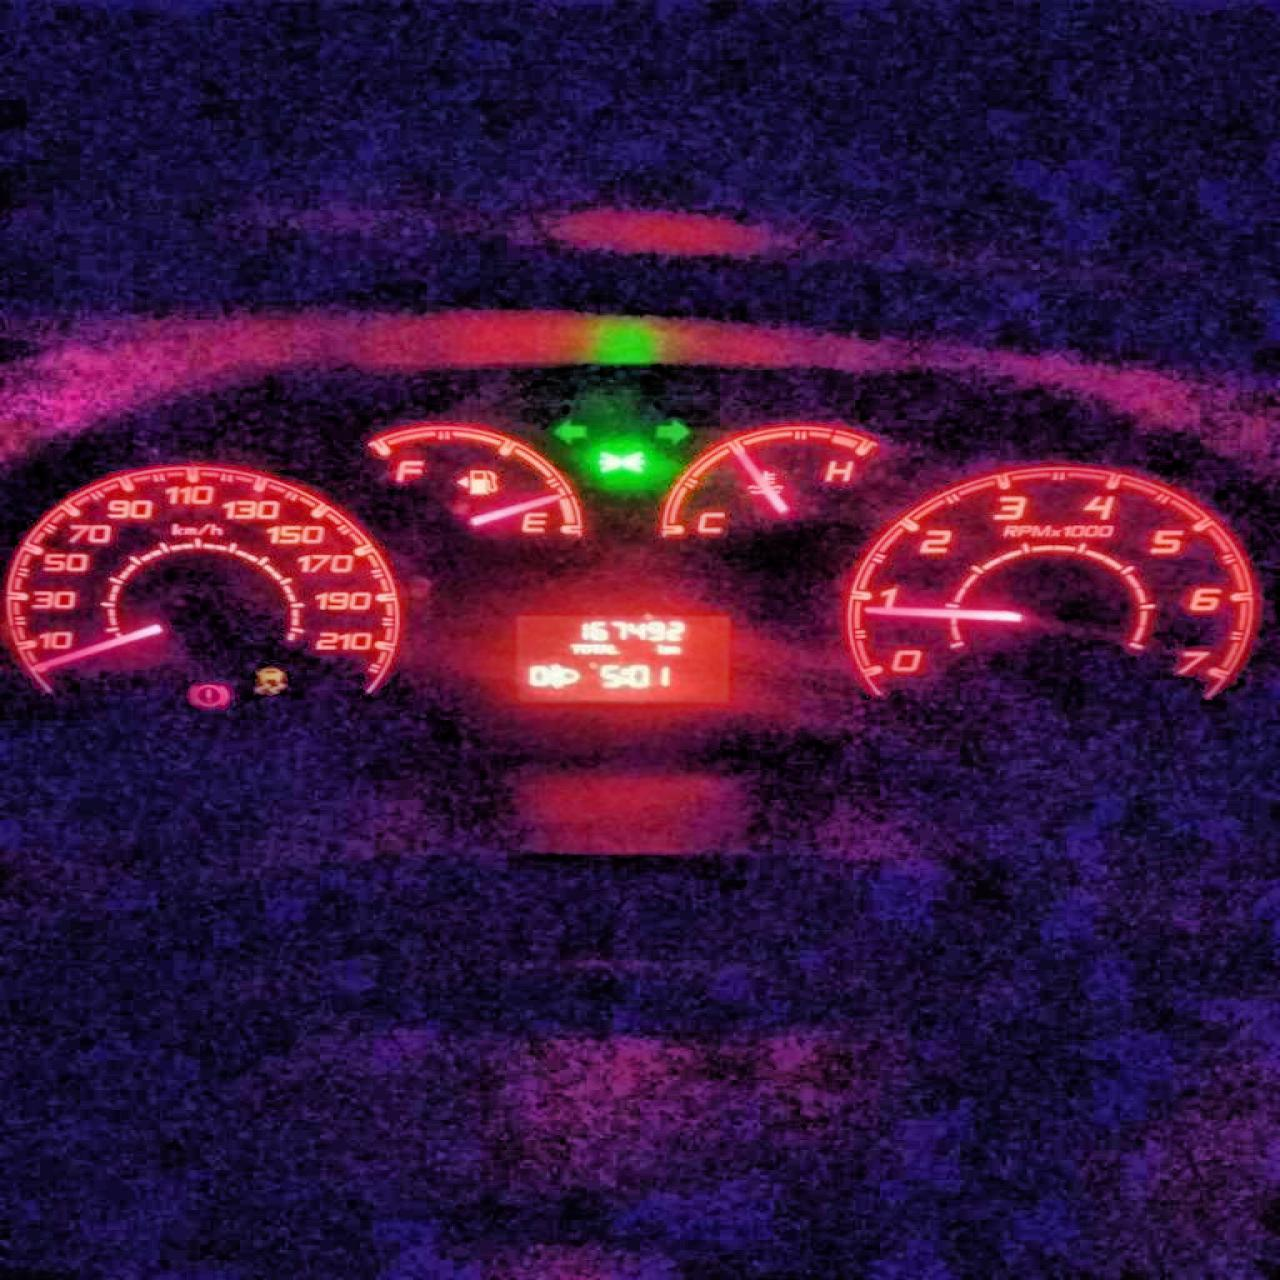0: (626, 662, 652, 688), (524, 661, 549, 688)
1: (655, 661, 672, 688), (574, 619, 588, 640)
2: (665, 619, 685, 641)
4: (626, 619, 647, 641)
5: (597, 662, 618, 688)
6: (587, 619, 608, 641)
7: (608, 618, 627, 641)
9: (647, 618, 666, 641)
X: (565, 641, 580, 655), (618, 665, 627, 687), (665, 642, 680, 654), (608, 642, 620, 654), (653, 642, 665, 654), (590, 642, 600, 654), (581, 642, 591, 654), (600, 642, 608, 655)
odometer: (502, 608, 738, 707)
